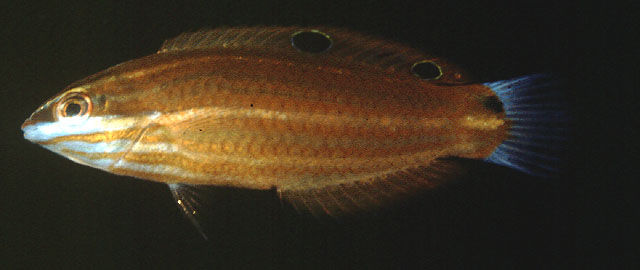fish: (21, 25, 569, 242)
